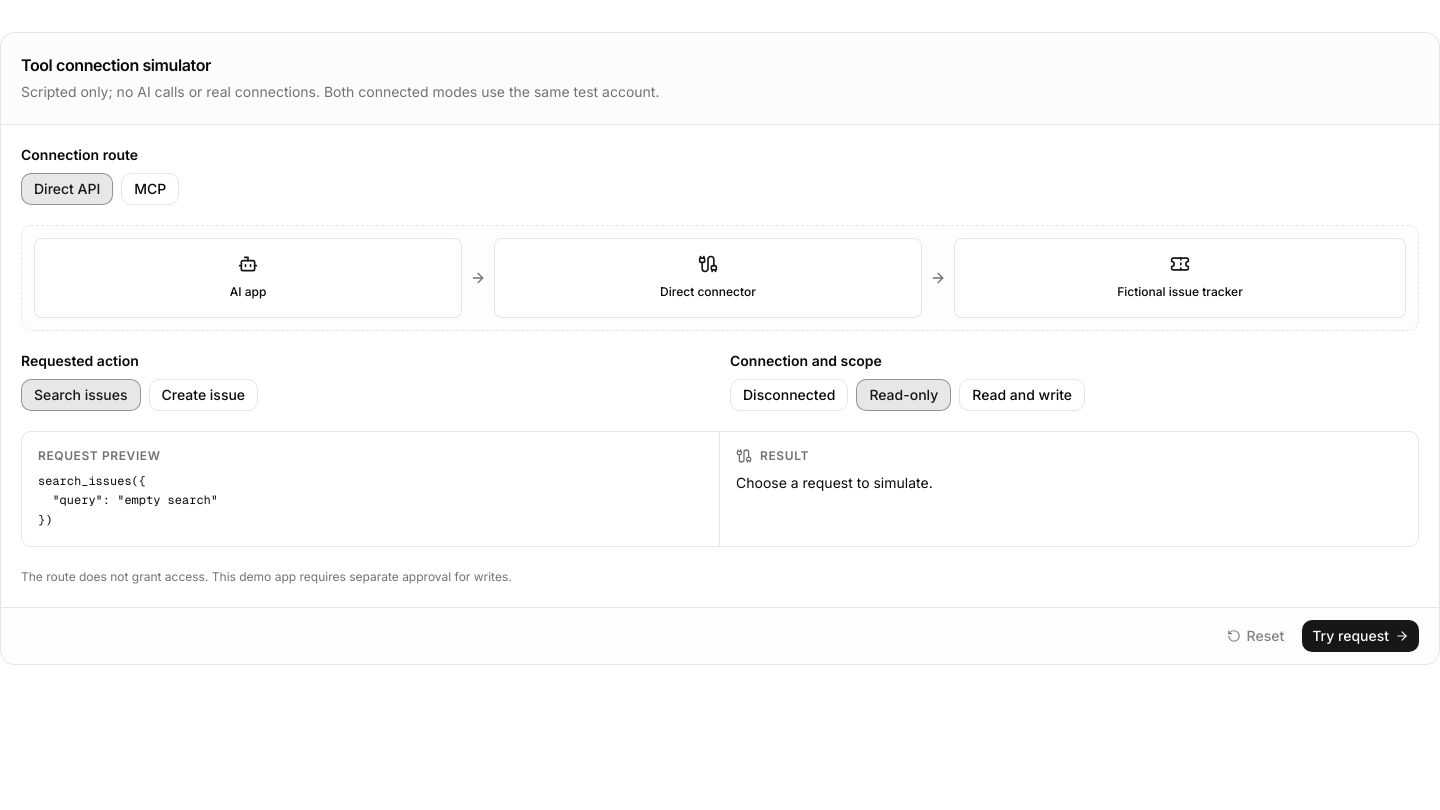
ToolsDemo › keeps read-only access read-only over Direct API
Click the button "Direct API" at {"x": 67, "y": 189}, box [21, 173, 113, 205]
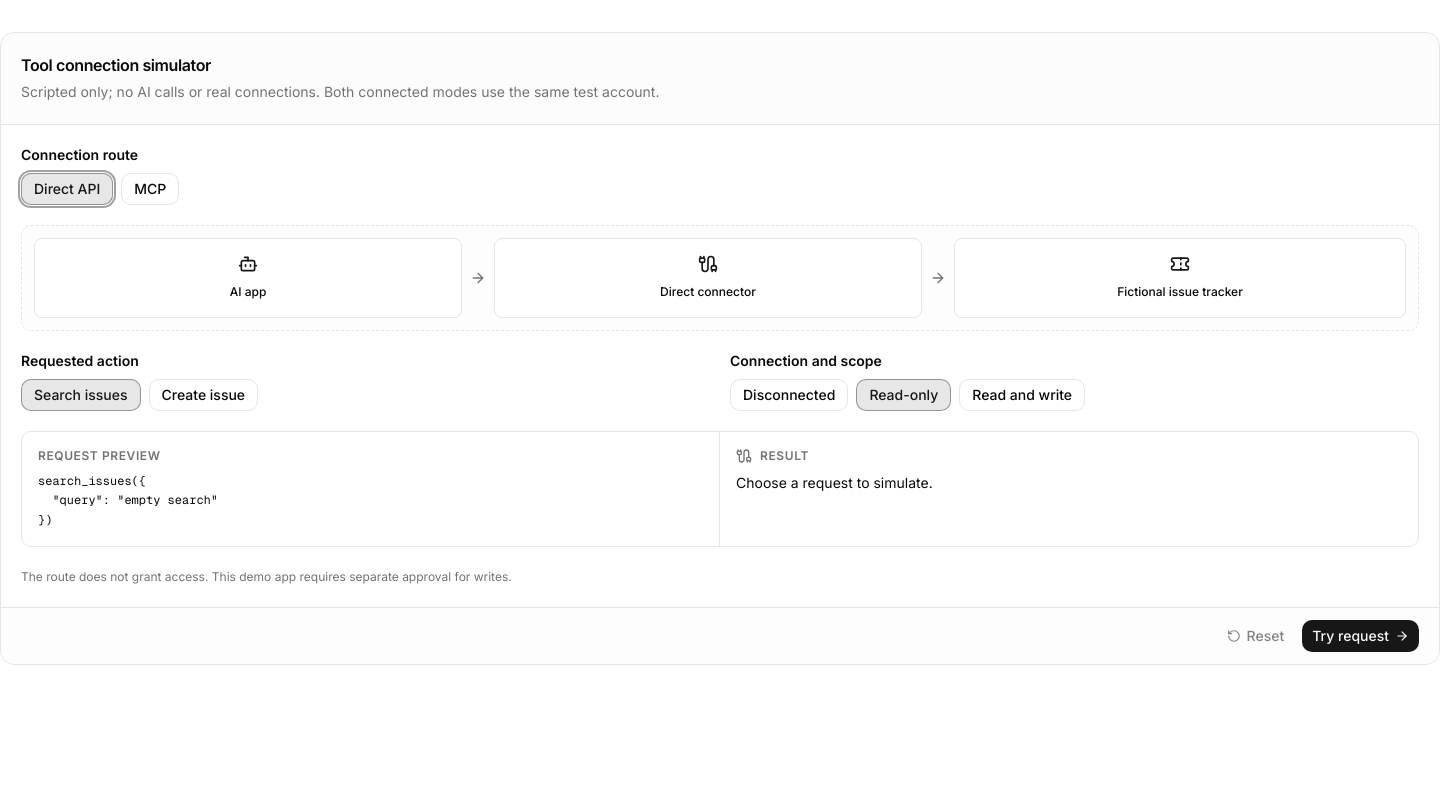
Click the button "Try request" at {"x": 1361, "y": 636}, box [1302, 620, 1419, 652]
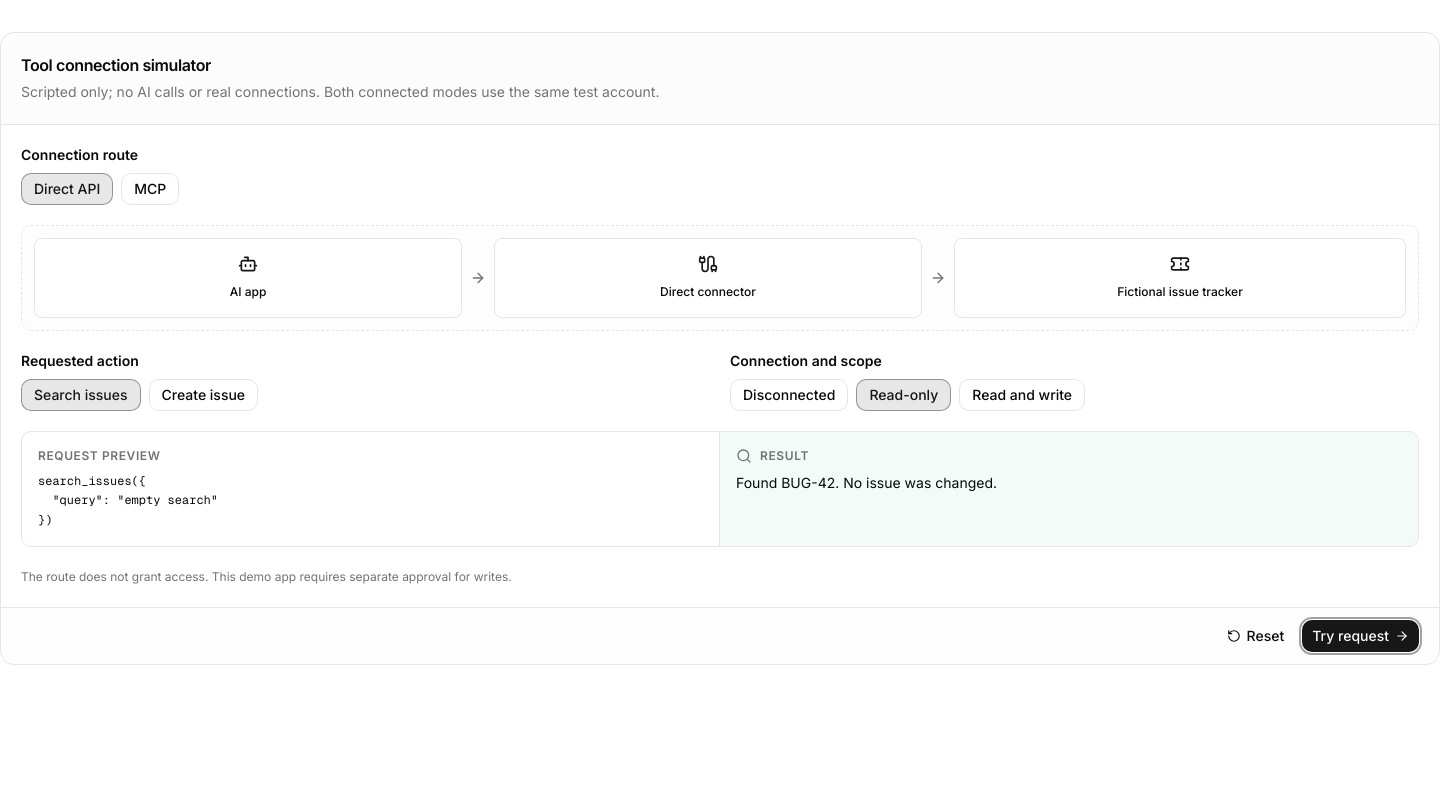
Result: the message reads "Found BUG-42. No issue was changed." at [736, 474, 997, 491]
Click the button "Create issue" at {"x": 203, "y": 395}, box [148, 379, 258, 411]
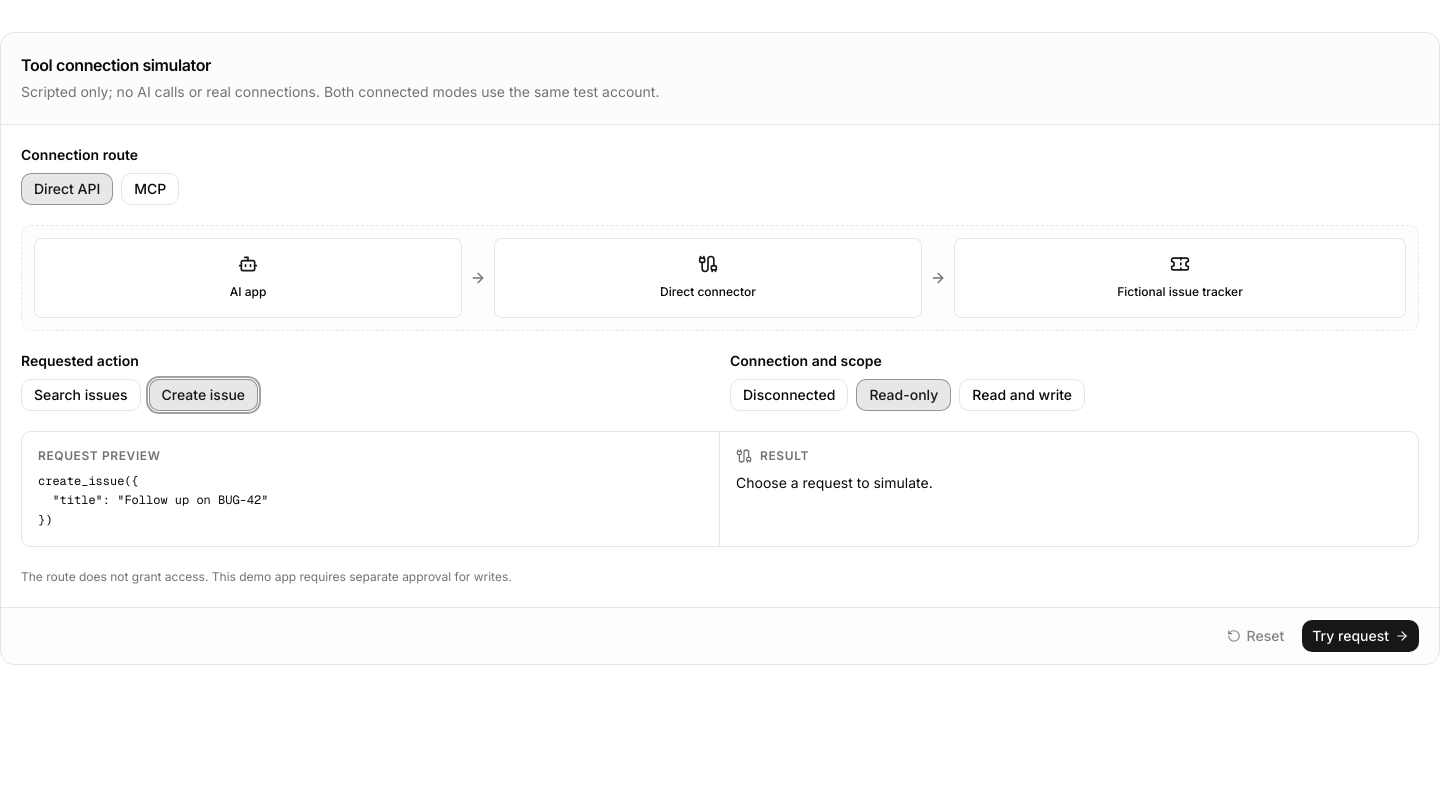
Click the button "Try request" at {"x": 1361, "y": 636}, box [1302, 620, 1419, 652]
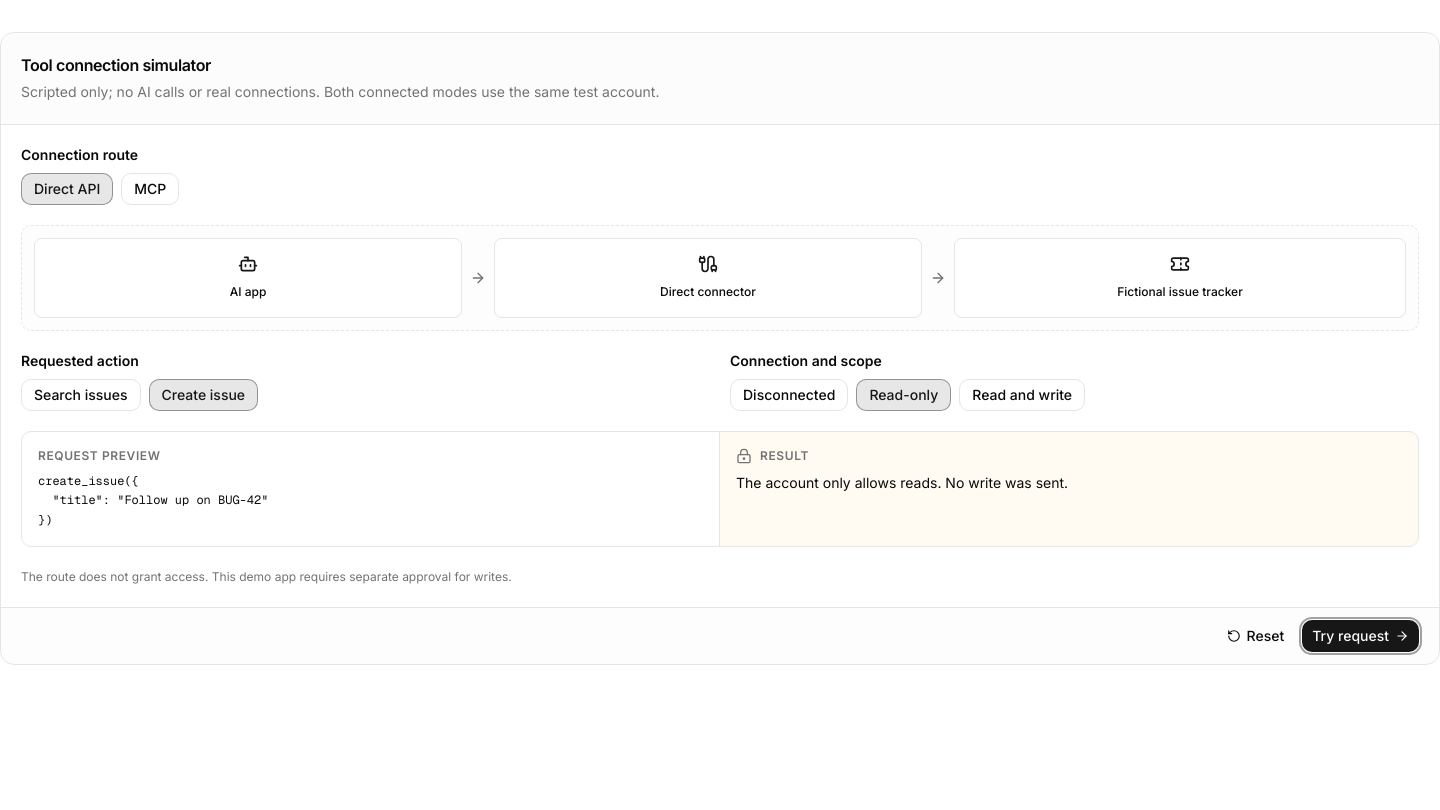
Result: the message reads "The account only allows reads. No write was sent." at [736, 474, 1068, 491]
